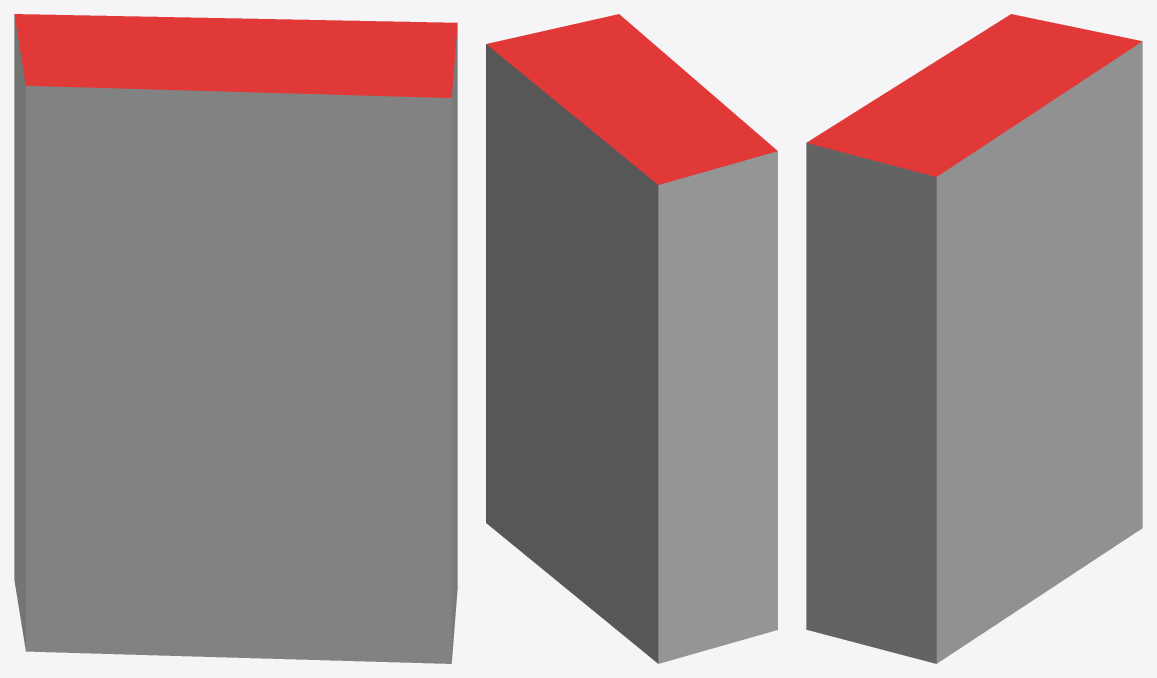
Rendered from DEBE3D04YY50000C1Y.dae.
The picture shows the model from 3 angles, left to right: view 1: azimuth 30°, elevation 25°; view 2: azimuth 150°, elevation 25°; view 3: azimuth 270°, elevation 25°; orthographic projection. The views are drawn at different scales.
Size of the model in its own units: 17.43 by 15.2 by 24.27.
